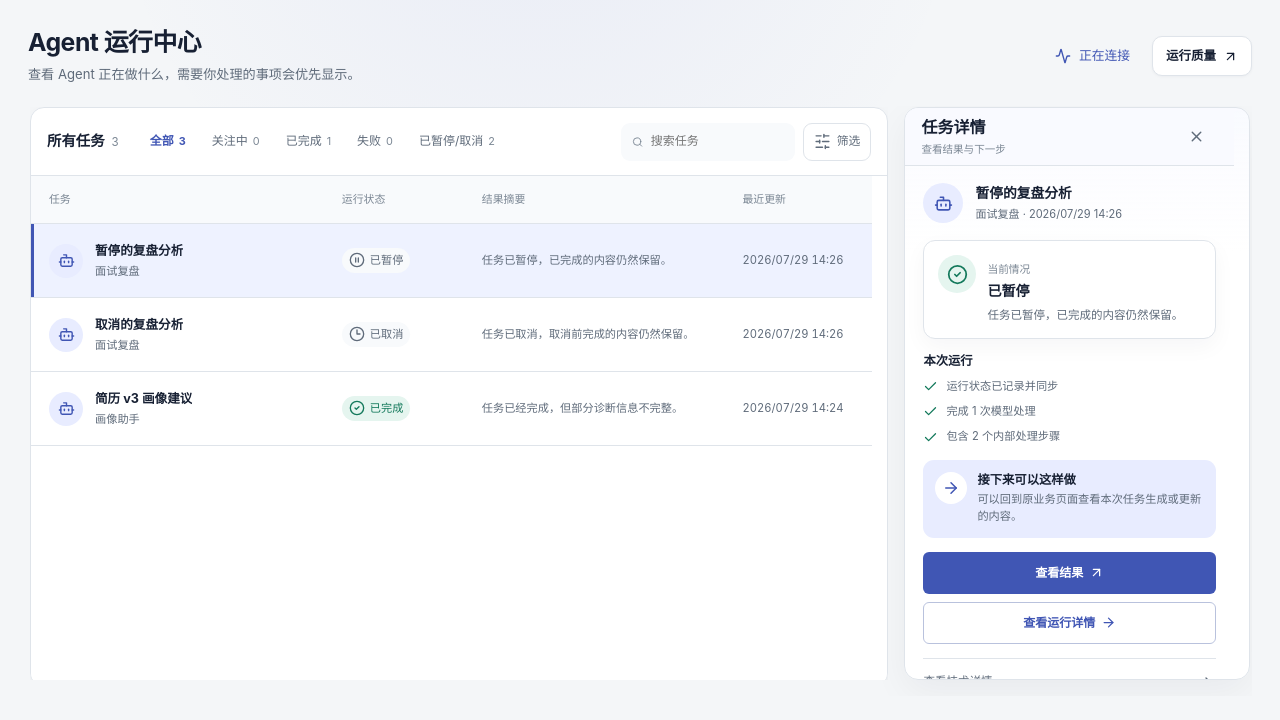
Test: AgentRunCenterPage › offers a quick filter for paused and cancelled tasks
The width and height of the screenshot is (1280, 720).
Click the button "已暂停/取消 2".
click(457, 142)  # box [406,118,508,165]
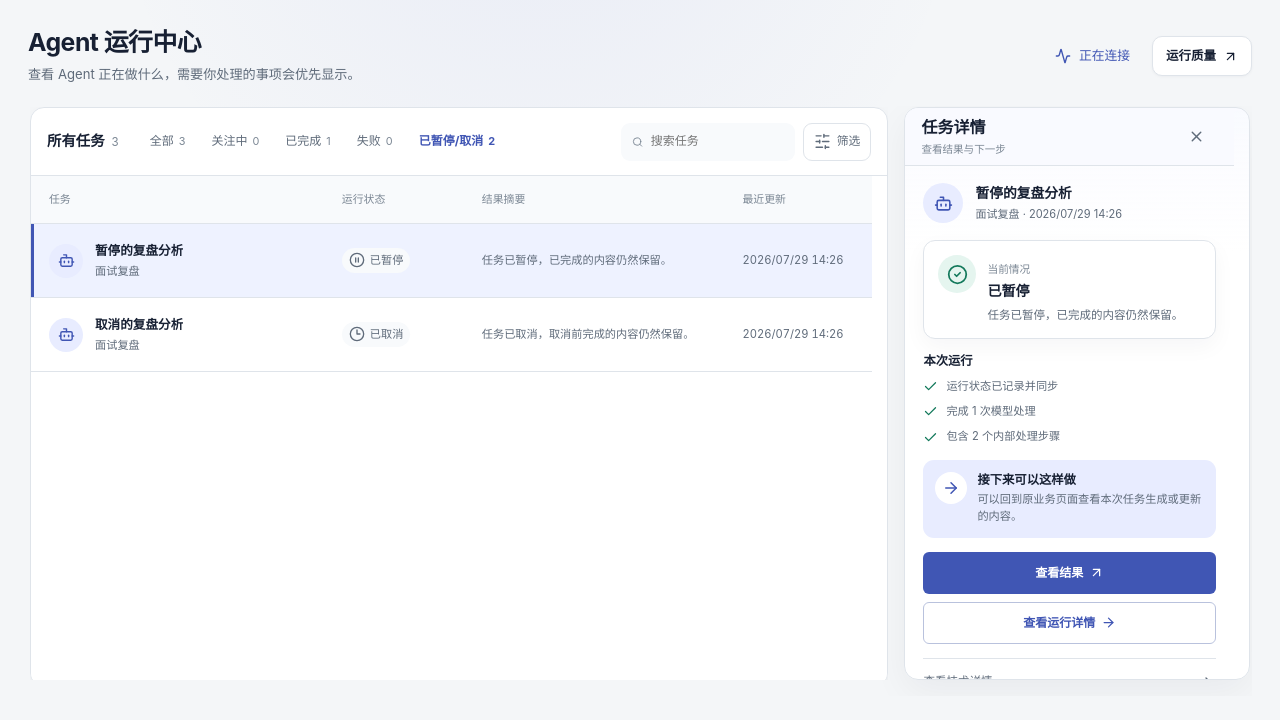
Expected: the button "暂停的复盘分析 面试复盘 已暂停 任务已暂停，已完成的内容仍然保留。 2026/07/29 14:26" is shown, [31,224,872,298]
Now the button "简历 v3 画像建议" is gone
